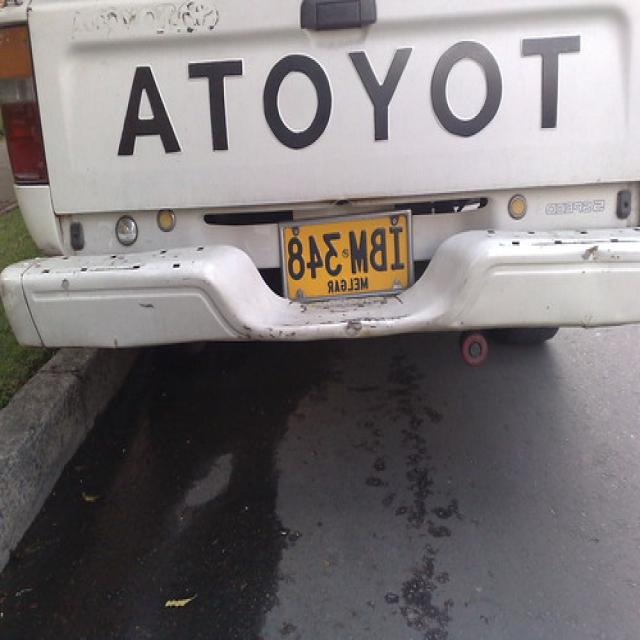placas: (282, 216, 409, 282)
